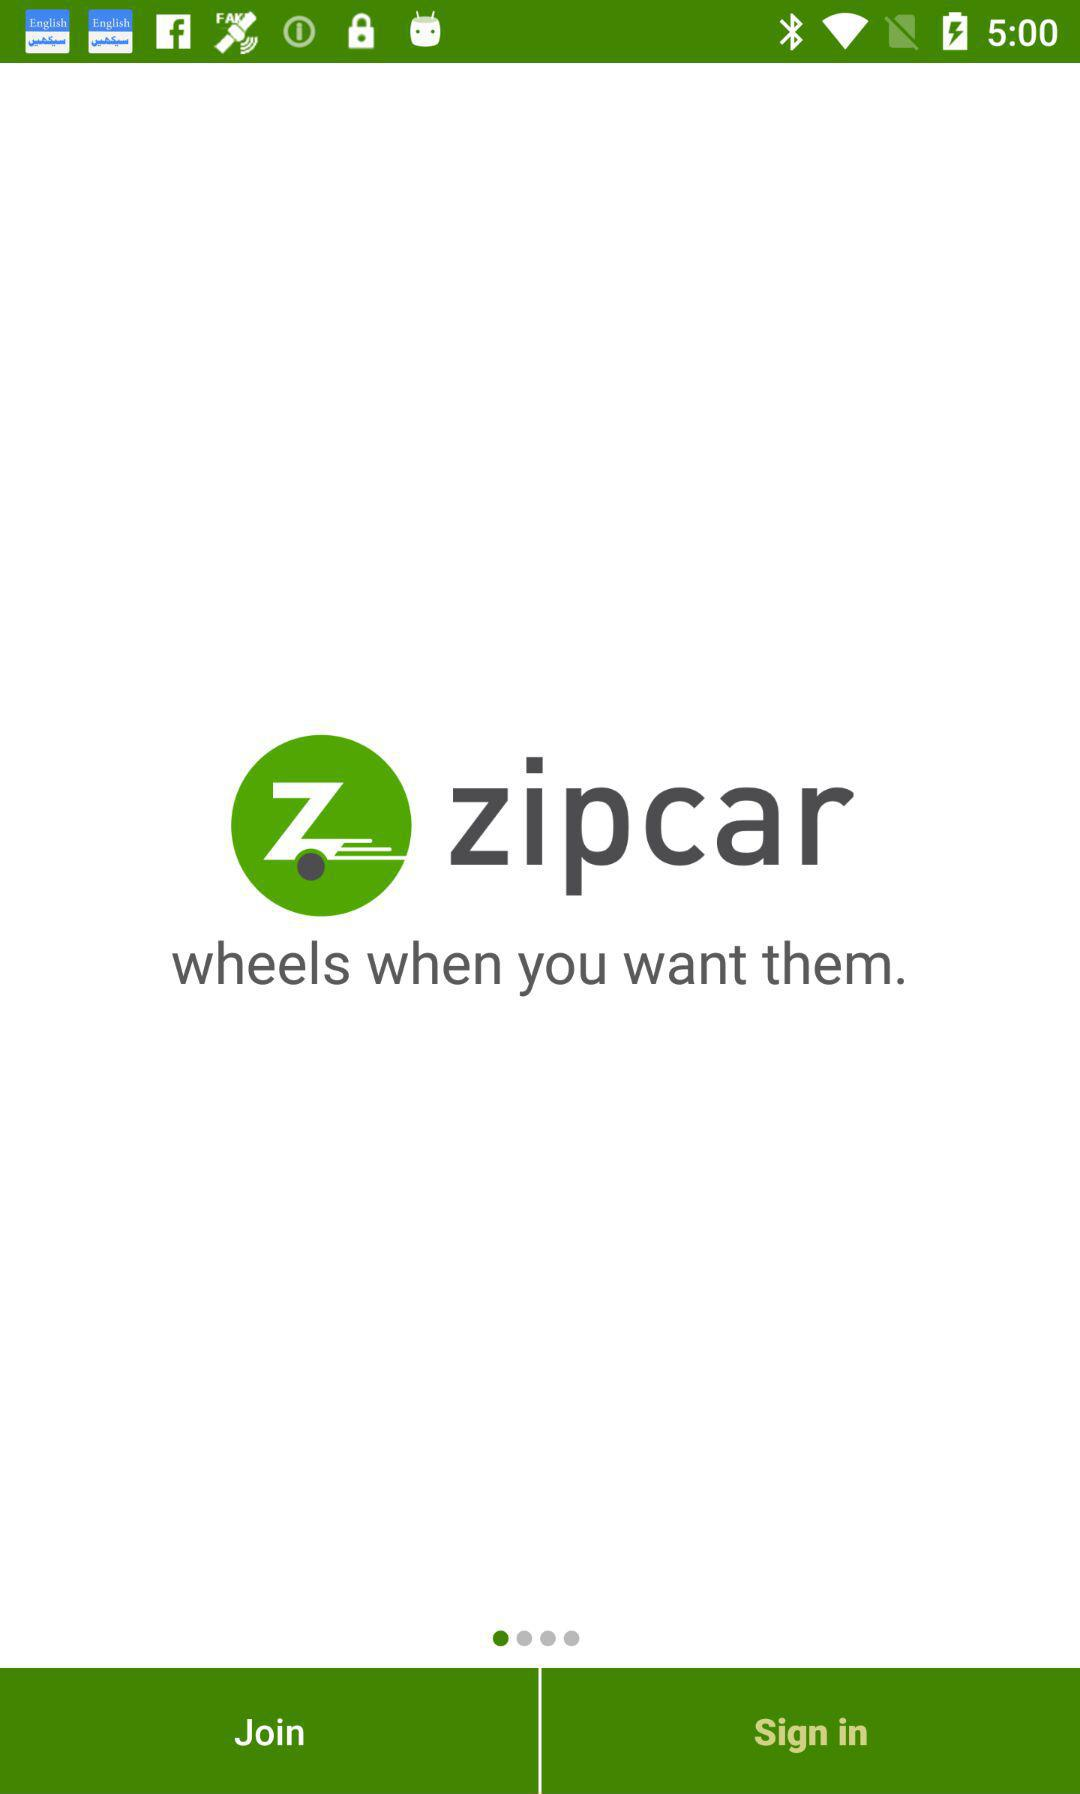Image: (231, 732, 855, 919)
PageIndicator: (492, 1627, 582, 1649)
Text: (170, 938, 904, 1000)
TextButton: (542, 1668, 1080, 1794), (1, 1668, 538, 1794)
UpperTaskBar: (1, 1, 1080, 64)
